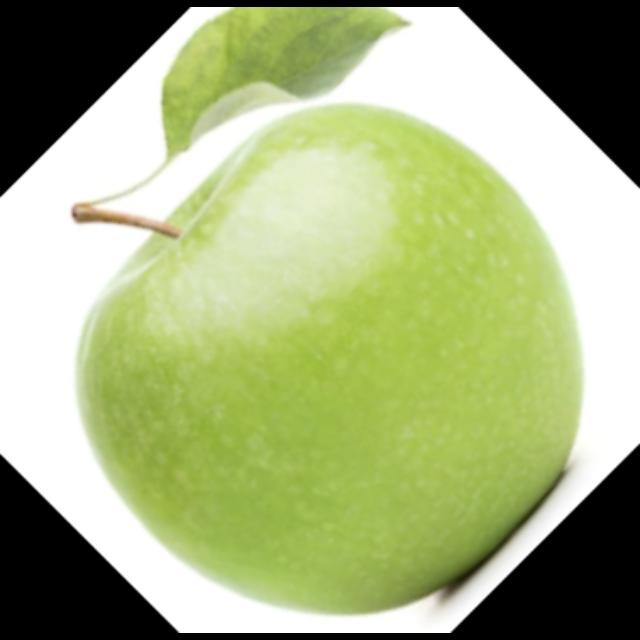Apel Segar: (66, 98, 596, 624)
